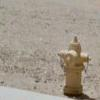Hydrant: (55, 26, 93, 100)
